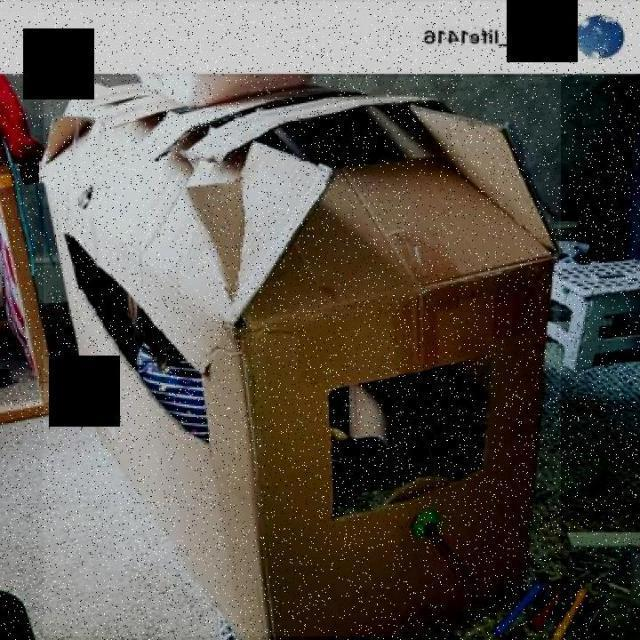box: (43, 77, 561, 637)
